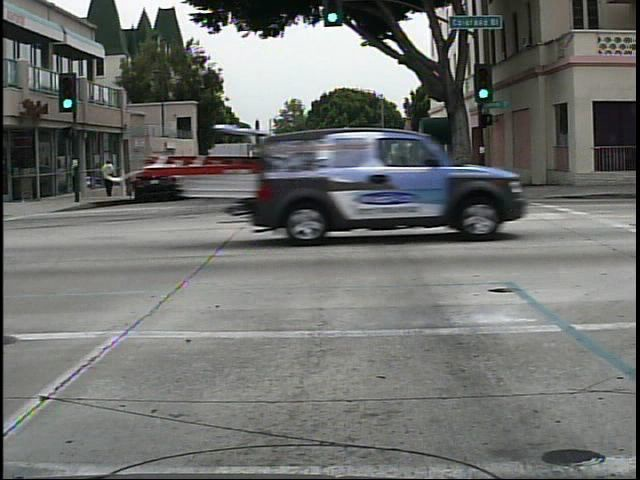person: (455, 141, 483, 196), (96, 153, 122, 202)
